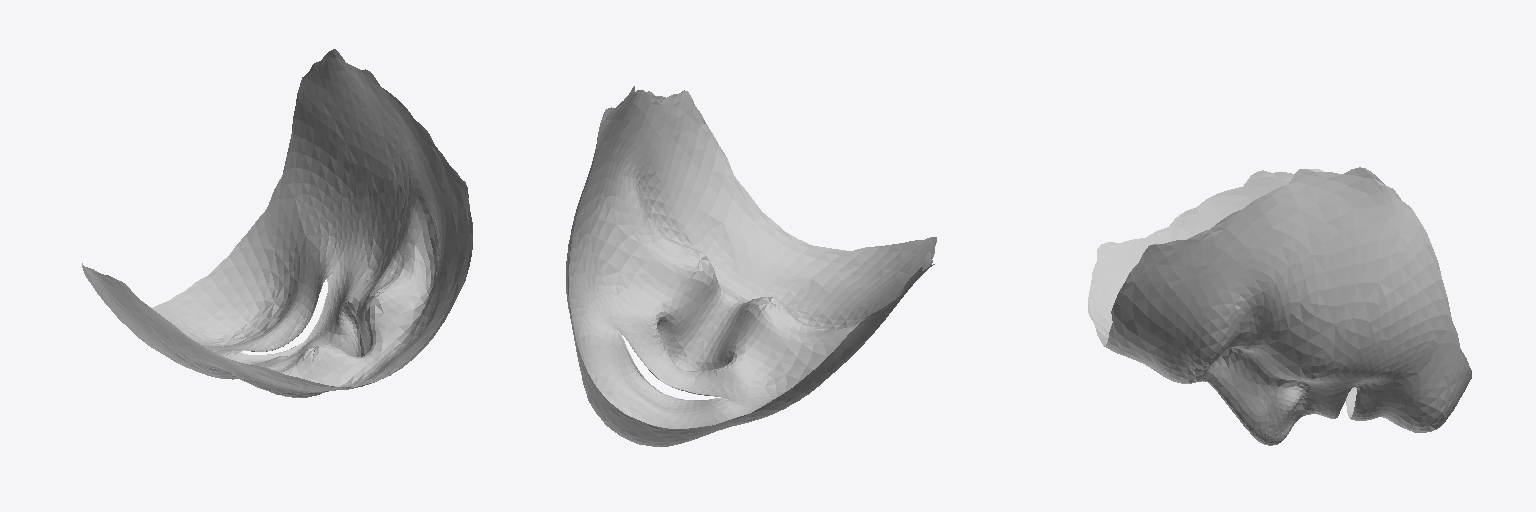
The model's file is face_gab_sfm35.obj.
3 renders of one model, left to right at view 1: azimuth 30°, elevation 25°; view 2: azimuth 150°, elevation 25°; view 3: azimuth 270°, elevation 25°, orthographic.
Bounding box in the file's own units: 164 × 151 × 178.